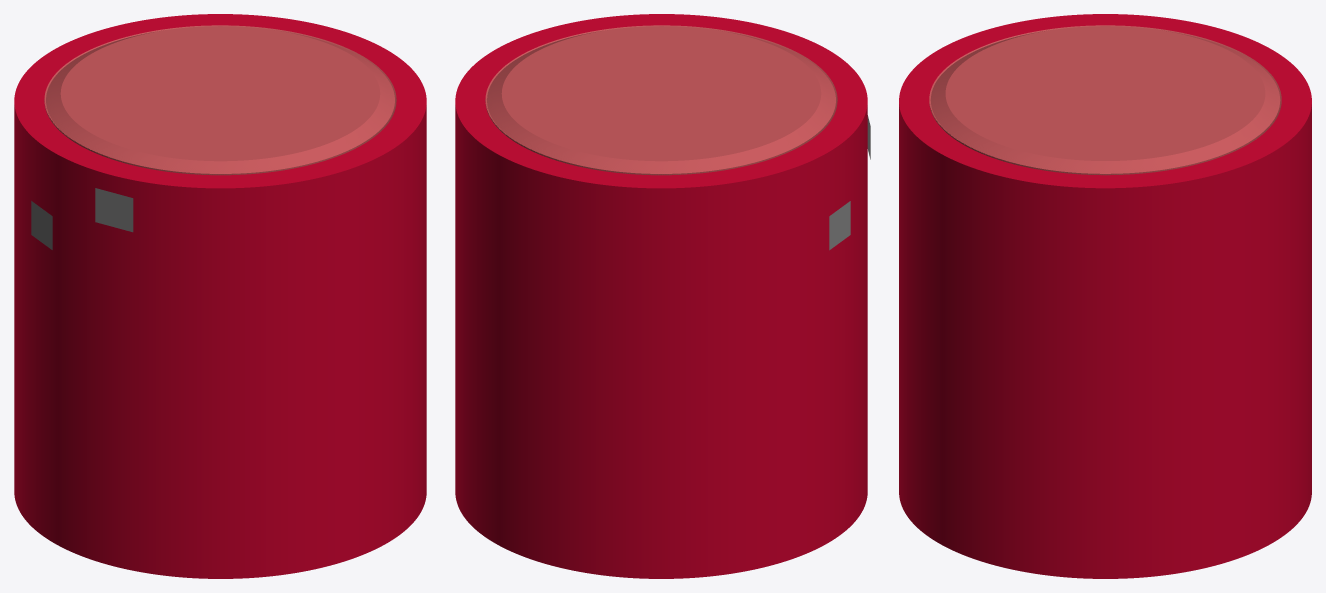
Rendered from block_tower_A.glb.
3 views of the same model, side by side, from view 1: azimuth 30°, elevation 25°; view 2: azimuth 150°, elevation 25°; view 3: azimuth 270°, elevation 25° (orthographic).
Visible parts, largest first — view 1: Cylinder, Cylinder.001, Cube.001, Cube; view 2: Cylinder, Cylinder.001, Cube; view 3: Cylinder, Cylinder.001.
Boxes of the visible parts, left/top/right/bottom form: Cylinder: left=14, top=14, right=426, bottom=578; Cylinder.001: left=44, top=25, right=396, bottom=175; Cube.001: left=95, top=188, right=133, bottom=232; Cube: left=31, top=201, right=52, bottom=249; Cylinder: left=455, top=14, right=867, bottom=578; Cylinder.001: left=485, top=25, right=837, bottom=175; Cube: left=829, top=201, right=850, bottom=250; Cylinder: left=899, top=14, right=1311, bottom=578; Cylinder.001: left=929, top=25, right=1281, bottom=175.
Bounding box in the file's own units: 0.2856 × 0.3043 × 0.286.
